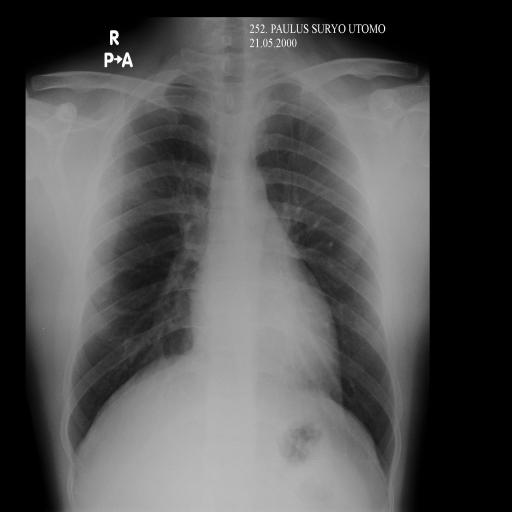normal: (62, 51, 400, 487)
